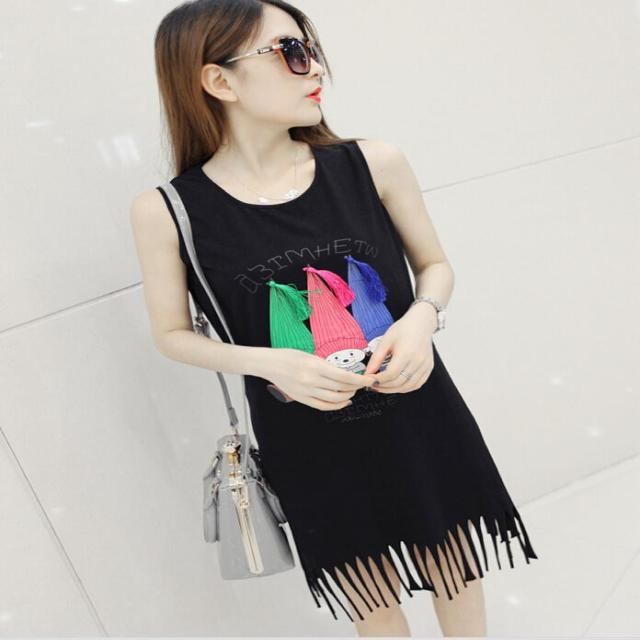vest dress: (157, 140, 535, 607)
